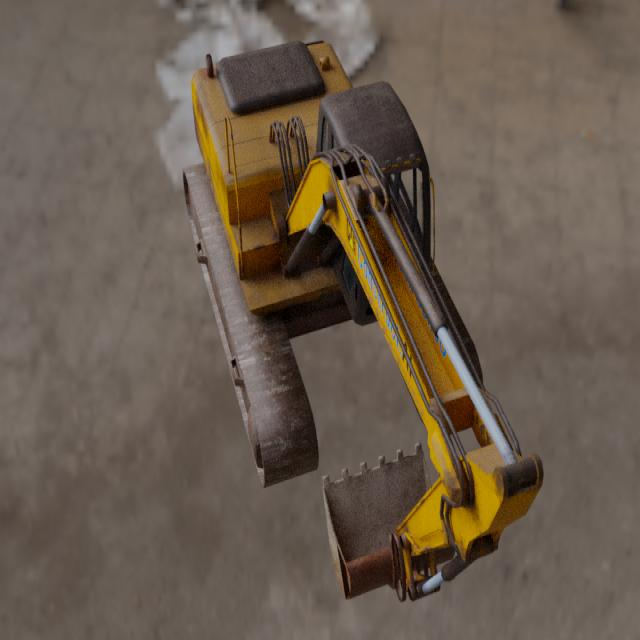excavator: (181, 38, 544, 602)
